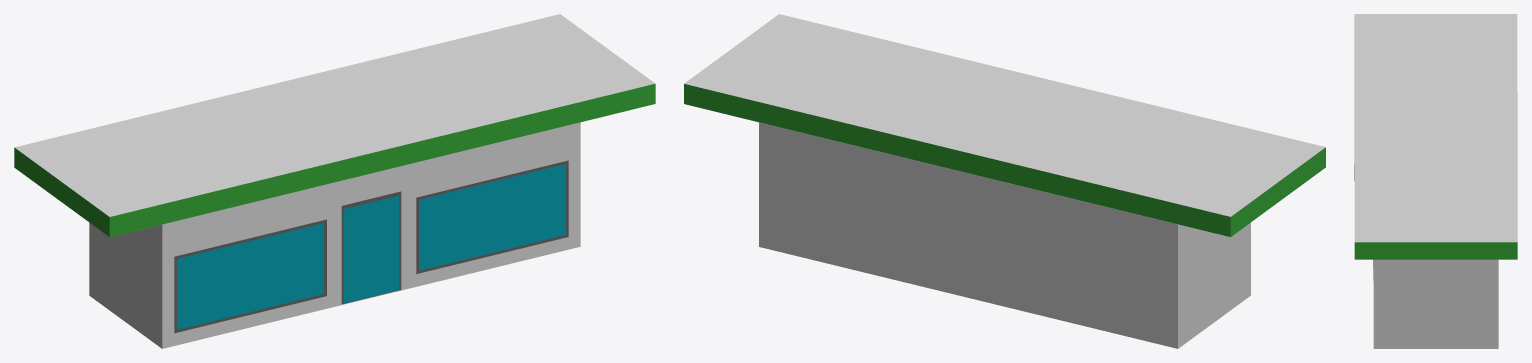
File: store.fbx
3 renders of one model, left to right at view 1: azimuth 30°, elevation 25°; view 2: azimuth 150°, elevation 25°; view 3: azimuth 270°, elevation 25°, orthographic. The views are drawn at different scales.
Parts seen in each view (by area): view 1: Gas store; view 2: Gas store; view 3: Gas store.
Part boxes in pixels (bbox=[...]): Gas store: bbox=[14, 14, 655, 348]; Gas store: bbox=[684, 14, 1325, 348]; Gas store: bbox=[1354, 14, 1517, 348].
Bounding box in the file's own units: 864 × 235 × 262.
